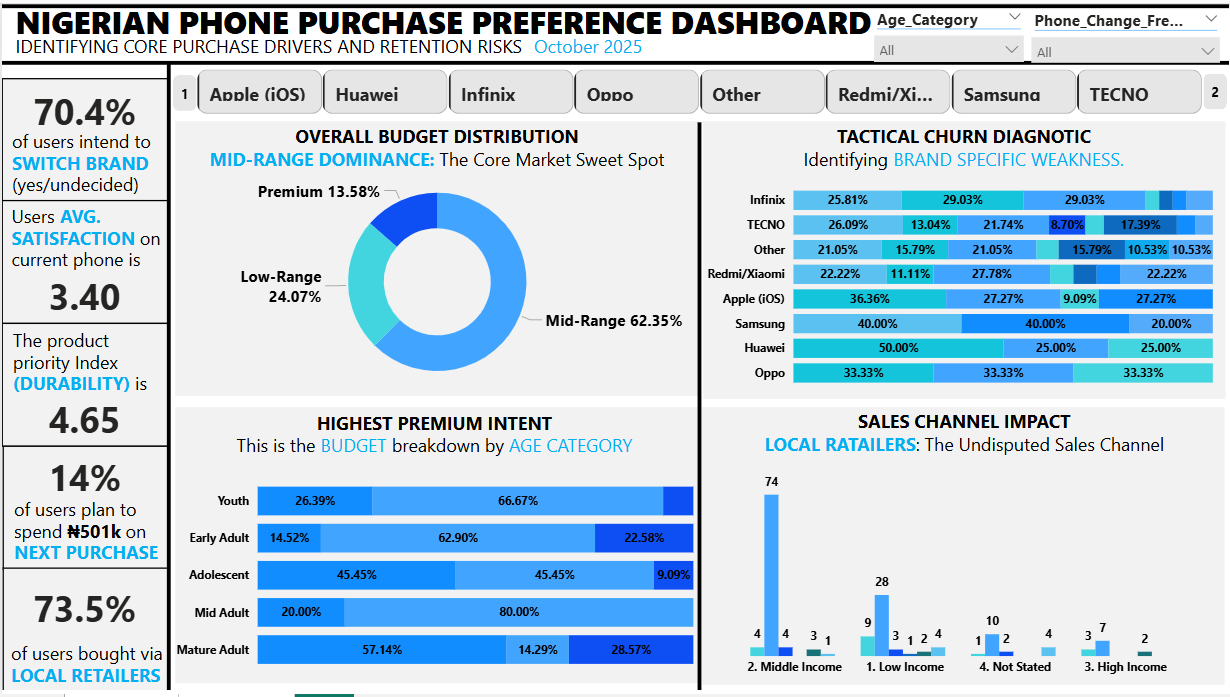

Layout of this report page (visuals, bound fields, positions):
{"tool":"powerbi","page":{"name":"Page 2","canvas":[1280,720],"ordinal":1},"visuals":[{"type":"slicer","fields":{"Values":["Phone_Purchase_Preference.Age_Category"]},"box":[898.6,0,175.7,63.4],"z":0,"group":"g2"},{"type":"advancedSlicerVisual","fields":{"Values":["Phone_Purchase_Preference.Current_Brand"]},"box":[178.6,64.8,1100.2,56.2],"z":0},{"type":"card","fields":{"Values":["KPI.Churn_Rate %"]},"box":[8.6,82.1,152.6,59],"z":0,"group":"g1"},{"type":"slicer","fields":{"Values":["Phone_Purchase_Preference.Phone_Change_Frequency"]},"box":[1062.8,1.4,216,60.5],"z":1000,"group":"g2"},{"type":"group","id":"g1","title":"Group 1","box":[8.6,82.1,152.6,576],"z":1000},{"type":"card","fields":{"Values":["KPI.Avg_Satisfaction"]},"box":[8.6,275.1,152.6,59],"z":1000,"group":"g1"},{"type":"donutChart","fields":{"Category":["Phone_Purchase_Preference.Budget_Range_NGN"],"Y":["Chart Measures.Respondent_Count"]},"box":[178.6,165.6,550.1,249.1],"z":1001},{"type":"hundredPercentStackedBarChart","fields":{"Category":["Phone_Purchase_Preference.Current_Brand"],"Series":["Phone_Purchase_Preference.Reason_for_Switch"],"Y":["Chart Measures.Respondent_Count"]},"box":[728.6,171.4,538.6,239],"z":1002},{"type":"hundredPercentStackedBarChart","fields":{"Y":["Chart Measures.Respondent_Count"],"Category":["Phone_Purchase_Preference.Age_Category"],"Series":["Phone_Purchase_Preference.Budget_Range_NGN"]},"box":[175.7,475.2,550.1,234.7],"z":1003},{"type":"clusteredColumnChart","fields":{"Category":["Phone_Purchase_Preference.Income_Range_NGN"],"Y":["Chart Measures.Respondent_Count"],"Series":["Phone_Purchase_Preference.Purchase_Channel"]},"box":[729,475,539,235],"z":1004},{"type":"group","id":"g2","title":"Group 2","box":[898.6,0,380.2,63.4],"z":1005},{"type":"shape","box":[1251.4,73.4,24.5,37.4],"z":1006},{"type":"shape","box":[178.6,74.9,24.5,37.4],"z":1007},{"type":"card","fields":{"Values":["KPI.Avg_Durability"]},"box":[8.6,403.2,152.6,59],"z":2000,"group":"g1"},{"type":"card","fields":{"Values":["KPI.Premuim_Budget %"]},"box":[8.6,463.7,152.6,59],"z":3000,"group":"g1"},{"type":"card","fields":{"Values":["KPI.Local_Retailer_Share %"]},"box":[8.6,599.1,152.6,59],"z":4000,"group":"g1"}]}

Visuals, with their boxes in screenshot pixels (x1, y1, x2, y2), scaled from the page's 1280x720 canvas onto the 1230x697 screenshot:
slicer - Phone_Purchase_Preference.Age_Category: 863 0 1032 61
advancedSlicerVisual - Phone_Purchase_Preference.Current_Brand: 172 63 1229 117
card - KPI.Churn_Rate %: 8 79 155 137
slicer - Phone_Purchase_Preference.Phone_Change_Frequency: 1021 1 1229 60
"Group 1" group: 8 79 155 637
card - KPI.Avg_Satisfaction: 8 266 155 323
donutChart - Phone_Purchase_Preference.Budget_Range_NGN x Chart Measures.Respondent_Count: 172 160 700 401
hundredPercentStackedBarChart - Phone_Purchase_Preference.Current_Brand x Phone_Purchase_Preference.Reason_for_Switch: 700 166 1218 397
hundredPercentStackedBarChart - Chart Measures.Respondent_Count x Phone_Purchase_Preference.Age_Category: 169 460 697 687
clusteredColumnChart - Phone_Purchase_Preference.Income_Range_NGN x Chart Measures.Respondent_Count: 701 460 1218 687
"Group 2" group: 863 0 1229 61
shape: 1203 71 1226 107
shape: 172 73 195 109
card - KPI.Avg_Durability: 8 390 155 447
card - KPI.Premuim_Budget %: 8 449 155 506
card - KPI.Local_Retailer_Share %: 8 580 155 637
